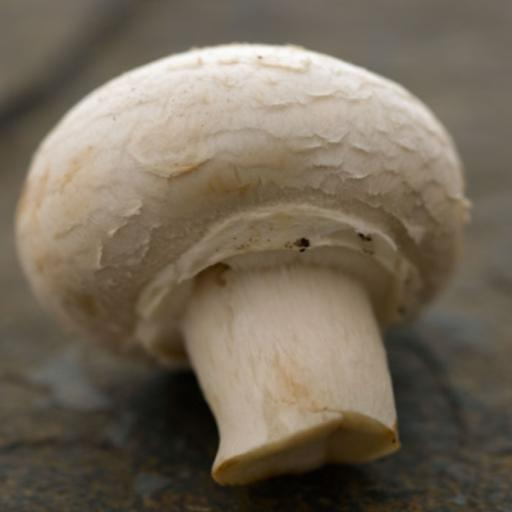Button Mushroom: (14, 40, 478, 491)
